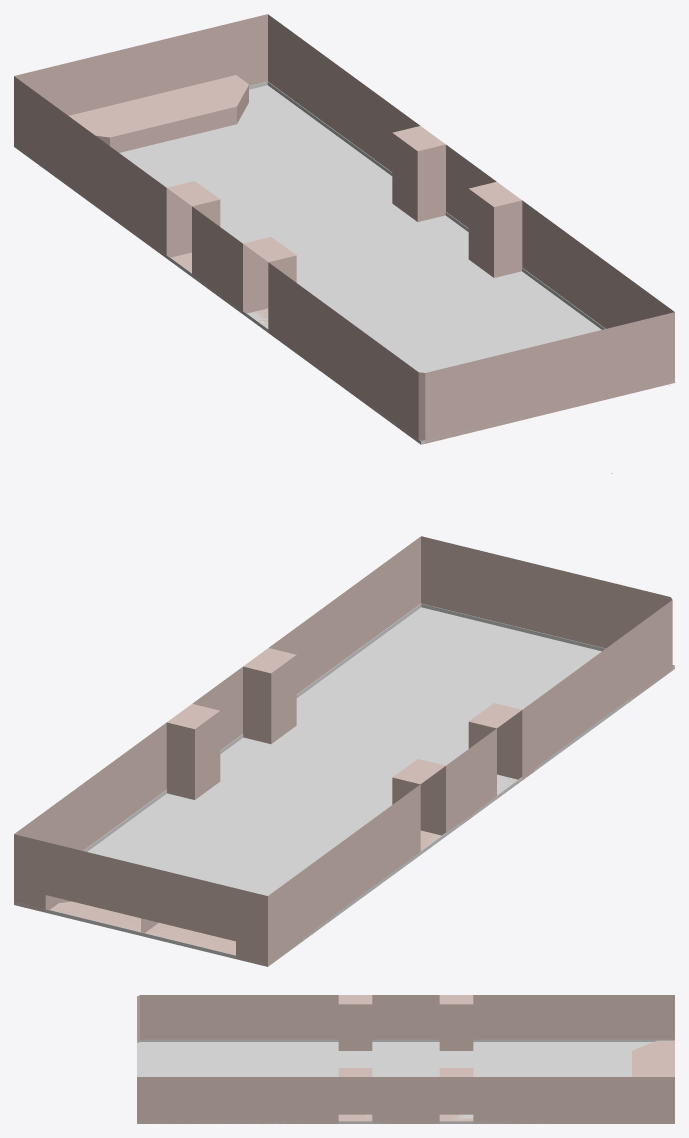
The model's file is gakumonron.fbx.
3 renders of one model, top to bottom at view 1: azimuth 30°, elevation 25°; view 2: azimuth 150°, elevation 25°; view 3: azimuth 270°, elevation 25°, orthographic. The views are drawn at different scales.
Visible parts, largest first — view 1: Room, Floor, Baseboard; view 2: Room, Floor, Baseboard; view 3: Room, Floor, Baseboard.
Part boxes in pixels (x1,y1,x2,y2): Room: (14,14,674,443); Floor: (119,85,601,372); Baseboard: (28,81,674,444); Room: (14,473,672,966); Floor: (52,607,601,953); Baseboard: (14,603,674,965); Room: (137,995,674,1123); Floor: (137,1042,653,1120); Baseboard: (137,1039,674,1123).
Bounding box in the file's own units: 9 × 3.04 × 30.71.
